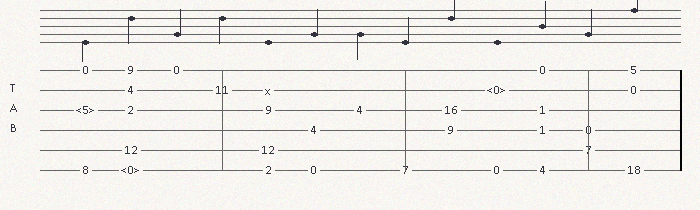0: (82, 64, 93, 76), (173, 64, 184, 76), (310, 164, 321, 176), (493, 164, 504, 176), (539, 64, 550, 76), (585, 124, 596, 136), (630, 84, 641, 96)
1: (539, 124, 550, 136), (539, 104, 550, 116)
11: (215, 84, 233, 96)
12: (124, 144, 142, 156), (261, 144, 279, 156)
16: (444, 104, 462, 116)
18: (627, 164, 645, 176)
2: (127, 104, 138, 116), (265, 164, 276, 176)
4: (127, 84, 138, 96), (310, 124, 321, 136), (356, 104, 367, 116), (539, 164, 550, 176)
5: (630, 64, 641, 76)
7: (402, 164, 413, 176), (585, 144, 596, 156)
8: (82, 164, 93, 176)
9: (127, 64, 138, 76), (265, 104, 276, 116), (447, 124, 458, 136)
harmonic: (76, 104, 99, 116), (121, 164, 144, 176), (487, 84, 510, 96)
x: (265, 85, 275, 95)
